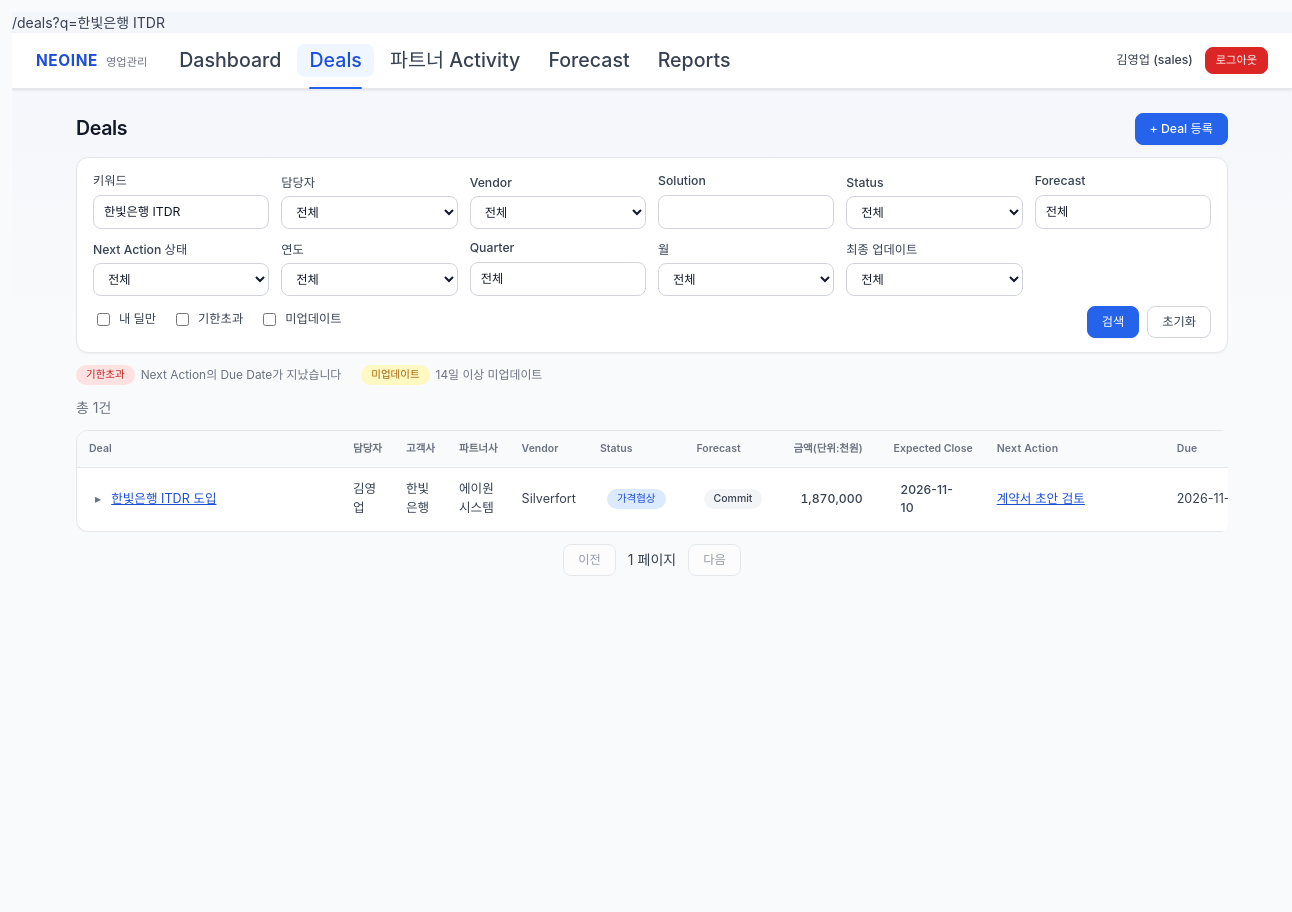
it: 목록의 Next Action 바로가기 (AC-6) › Next Action 내용은 Actions 탭 링크이고 누르면 Actions 탭이 열린다
Click the link "계약서 초안 검토". click: {"x": 1041, "y": 498}
box: [997,491,1085,506]
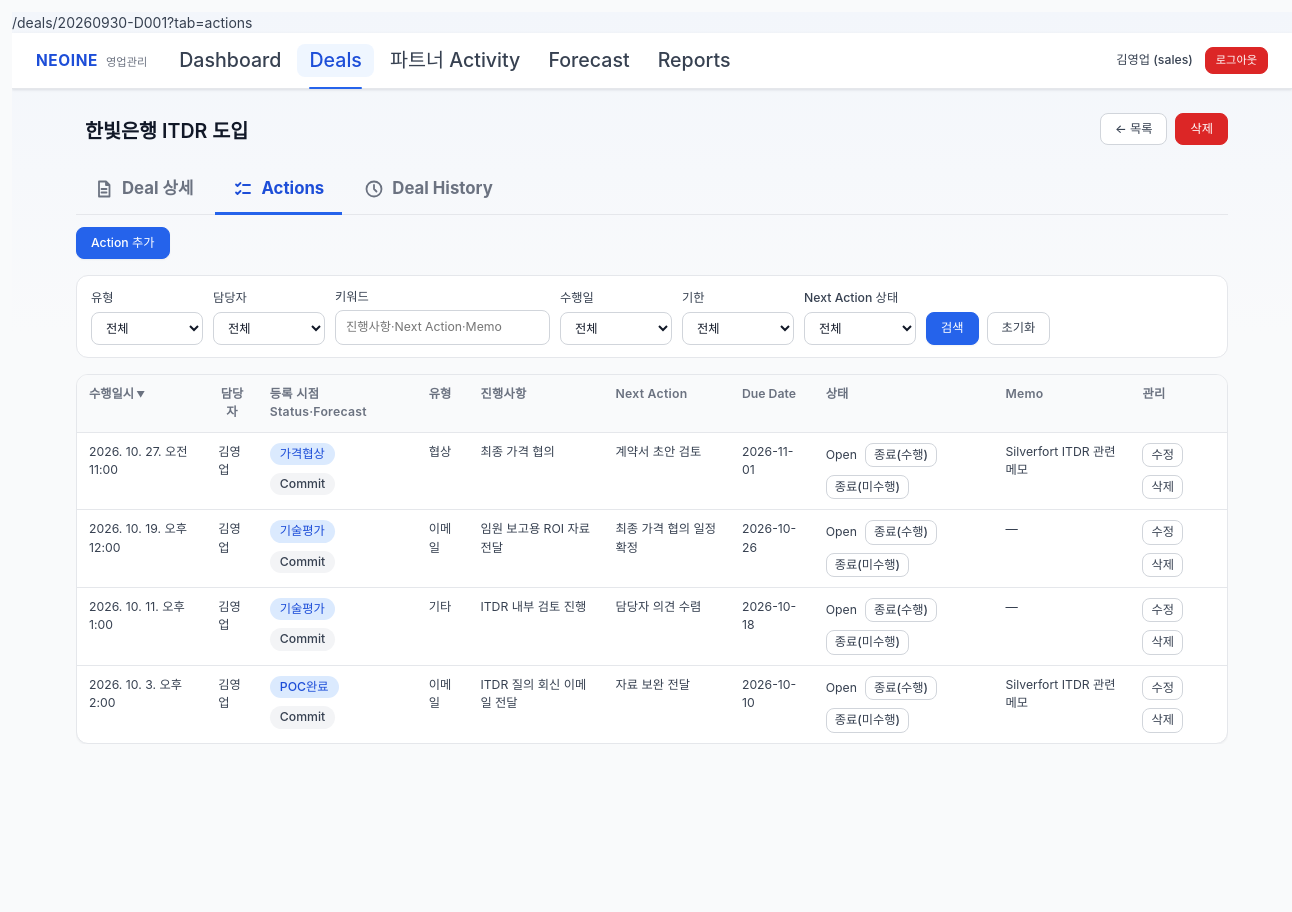
Result: the heading "한빛은행 ITDR 도입" is shown at [76,113,257,150]
Result: the text with test id "location" shows "tab=actions" at [12,14,252,31]
